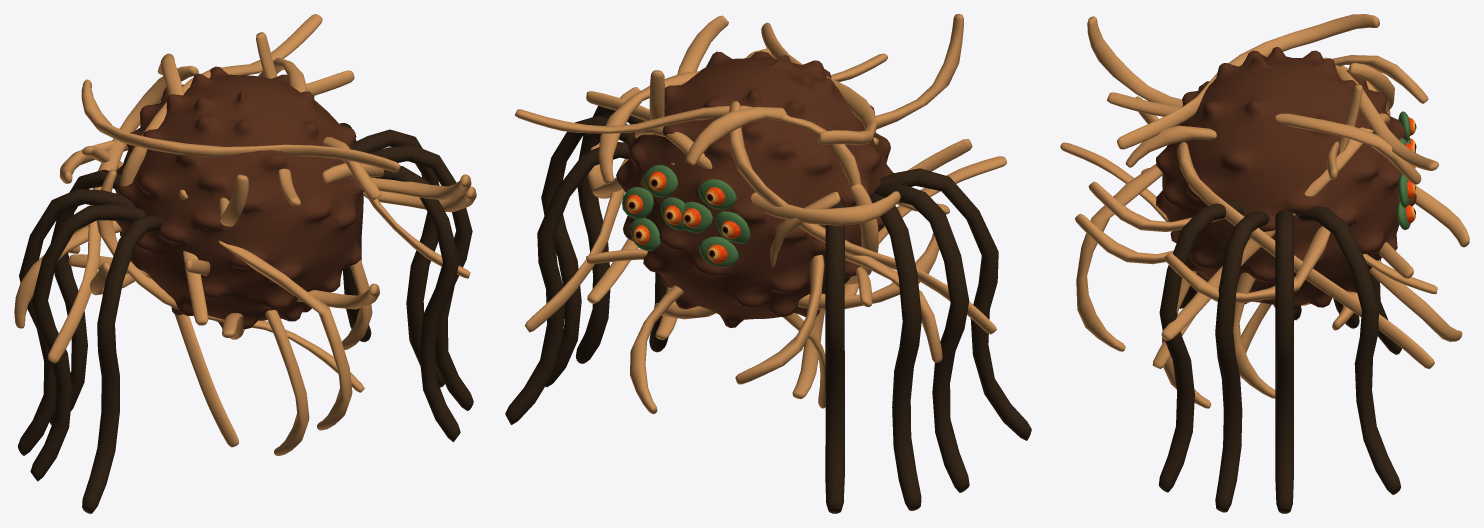
File: spider.fbx
3 views of the same model, side by side, from view 1: azimuth 30°, elevation 25°; view 2: azimuth 150°, elevation 25°; view 3: azimuth 270°, elevation 25° (orthographic). The views are drawn at different scales.
Parts seen in each view (by area): view 1: polySurface35; view 2: polySurface35; view 3: polySurface35.
Boxes of the visible parts, x1,y1,x2,y2 form: polySurface35: (14, 14, 476, 513); polySurface35: (505, 14, 1031, 513); polySurface35: (1060, 14, 1469, 513).
Size of the model in its own units: 3.84 by 3.19 by 3.29.
